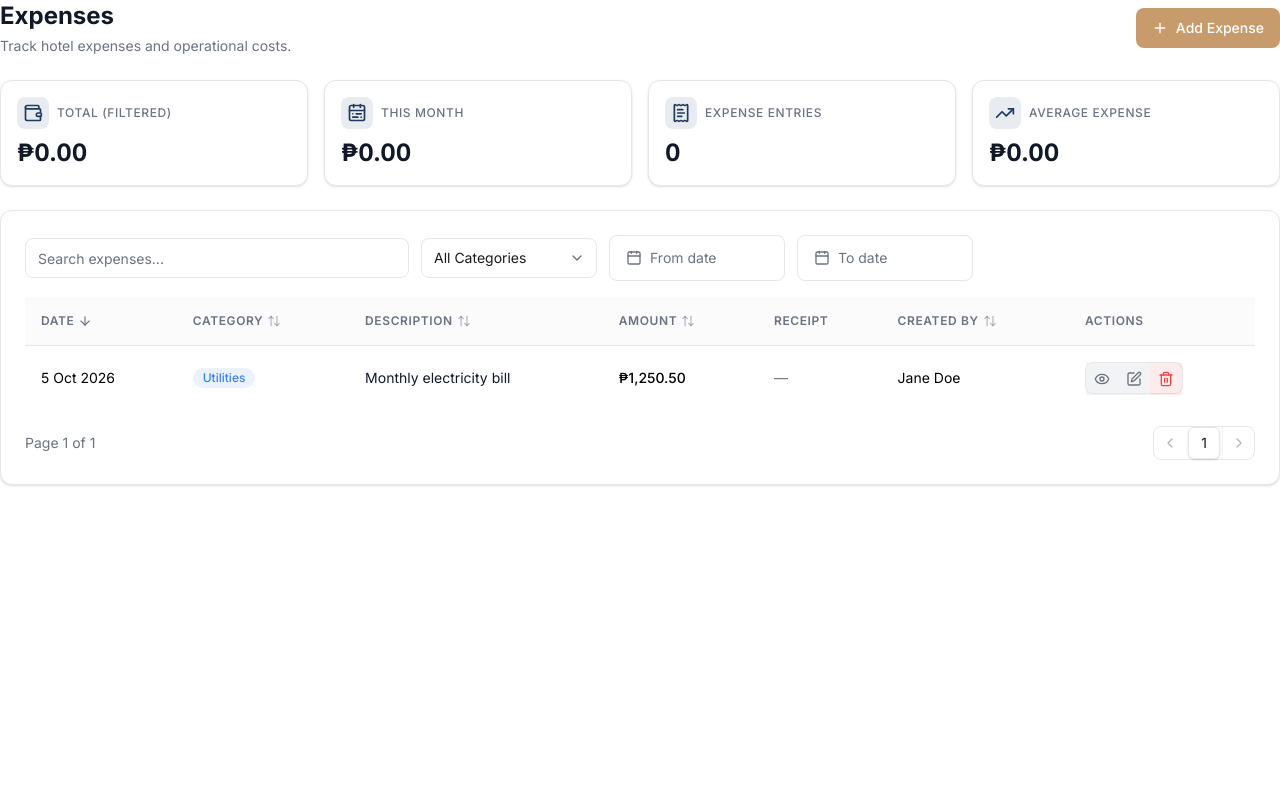
Test case: ExpensesPage › shows a no-receipt placeholder when no receipt is attached
This screenshot has width=1280, height=800.
Click the button titled "View" at (1102, 378), box [1086, 362, 1118, 394]
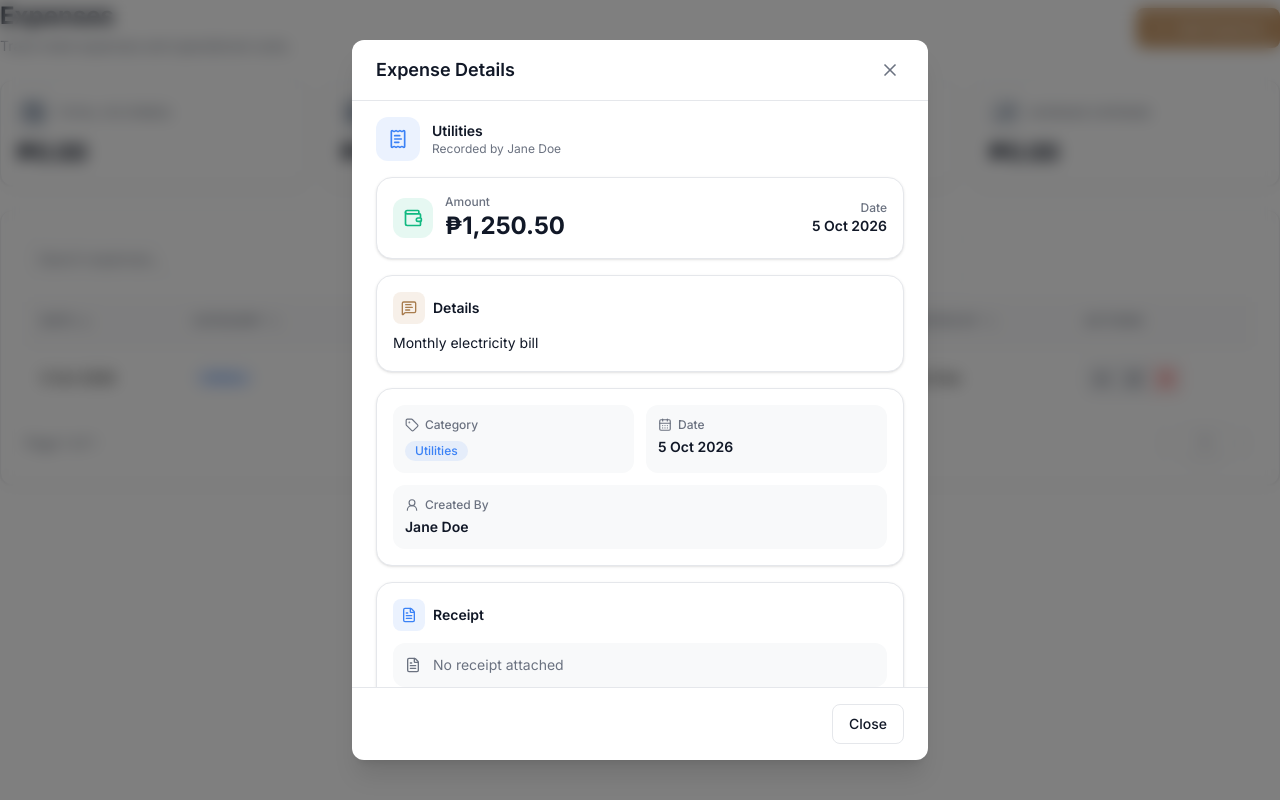
Result: the text "No receipt attached" is shown at [433, 655, 564, 675]
